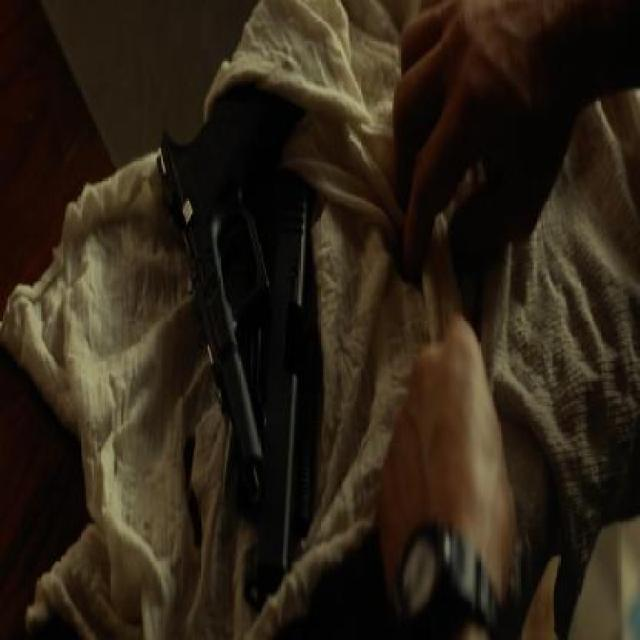gun: (142, 92, 327, 563)
